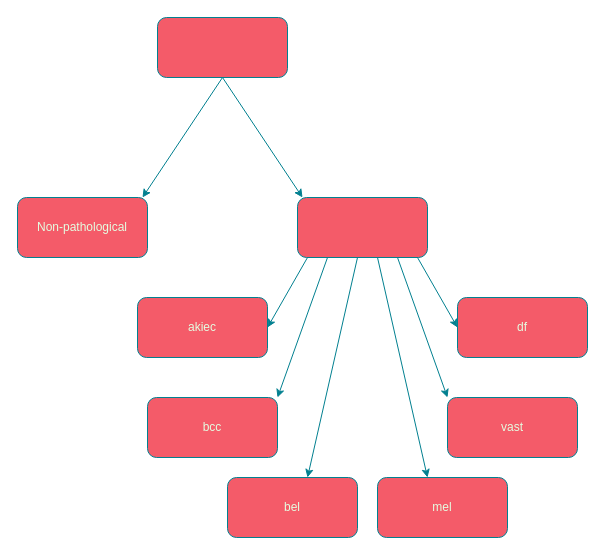
This 605x555 diagram has some shape labels left out. Each missing label, with the box of its shape:
Candidate picture: (156, 16, 288, 78)
Pathological: (296, 196, 428, 258)
